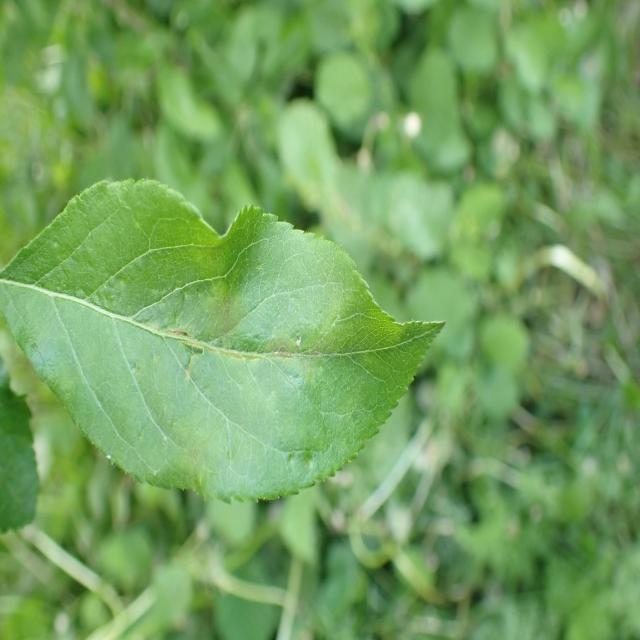scab: (84, 219, 399, 452)
